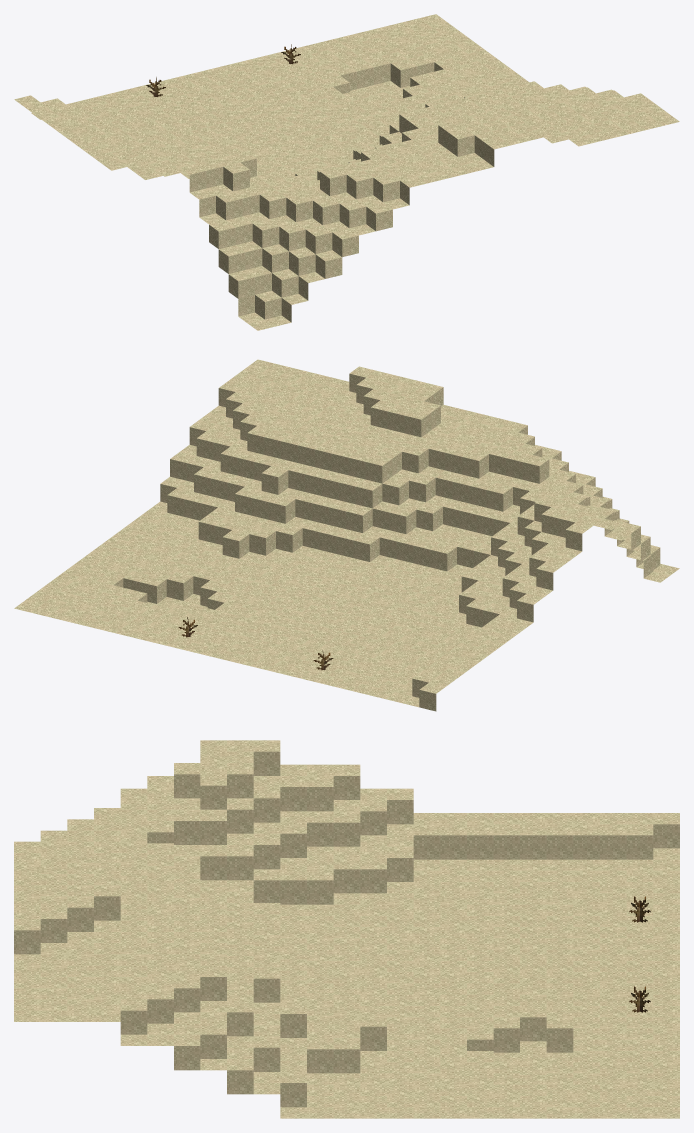
Rendered from chunk250-575-lvl-1-transformed.glb.
3 views of the same model, one above another, from view 1: azimuth 30°, elevation 25°; view 2: azimuth 150°, elevation 25°; view 3: azimuth 270°, elevation 25° (orthographic). The views are drawn at different scales.
Parts seen in each view (by area): view 1: Sand; view 2: Sand; view 3: Sand, Dead_Bush.
Part boxes in pixels (x1=…): Sand: x1=14, y1=14, x2=679, y2=330; Sand: x1=14, y1=359, x2=679, y2=711; Sand: x1=14, y1=740, x2=679, y2=1118; Dead_Bush: x1=629, y1=896, x2=650, y2=1012.
Size of the model in its own units: 25 by 7 by 25.
2 materials, 2 textured.
